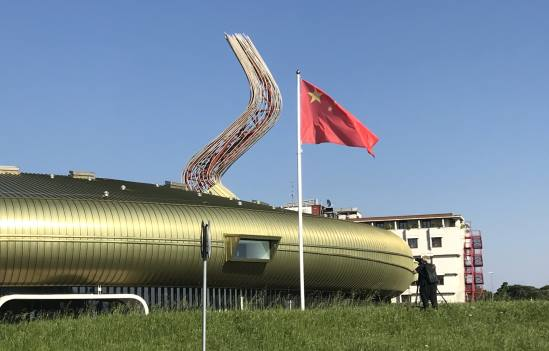Flag: (293, 73, 382, 161)
